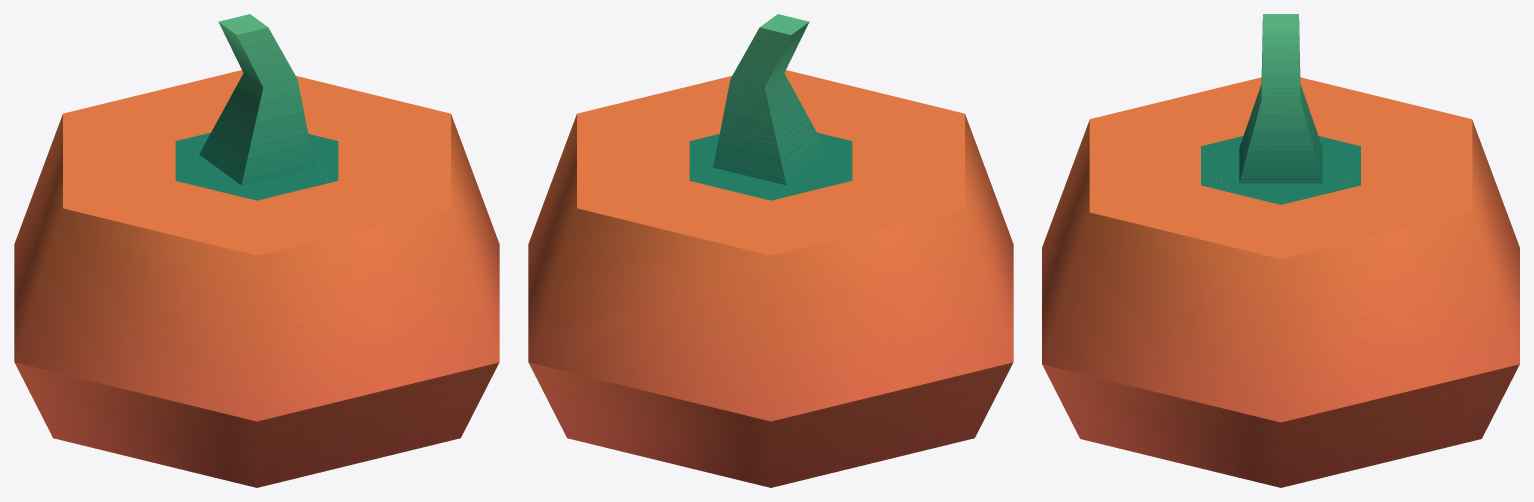
Rendered from pumpkin.glb.
3 views of the same model, side by side, from view 1: azimuth 30°, elevation 25°; view 2: azimuth 150°, elevation 25°; view 3: azimuth 270°, elevation 25° (orthographic).
Visible parts, largest first — view 1: pumpkin; view 2: pumpkin; view 3: pumpkin.
Part boxes in pixels (left/top/right/bottom): pumpkin: left=14, top=14, right=499, bottom=487; pumpkin: left=528, top=14, right=1013, bottom=487; pumpkin: left=1042, top=14, right=1519, bottom=487.
Bounding box in the file's own units: 1.07 × 0.7748 × 0.9275.
1 material, 1 textured.
